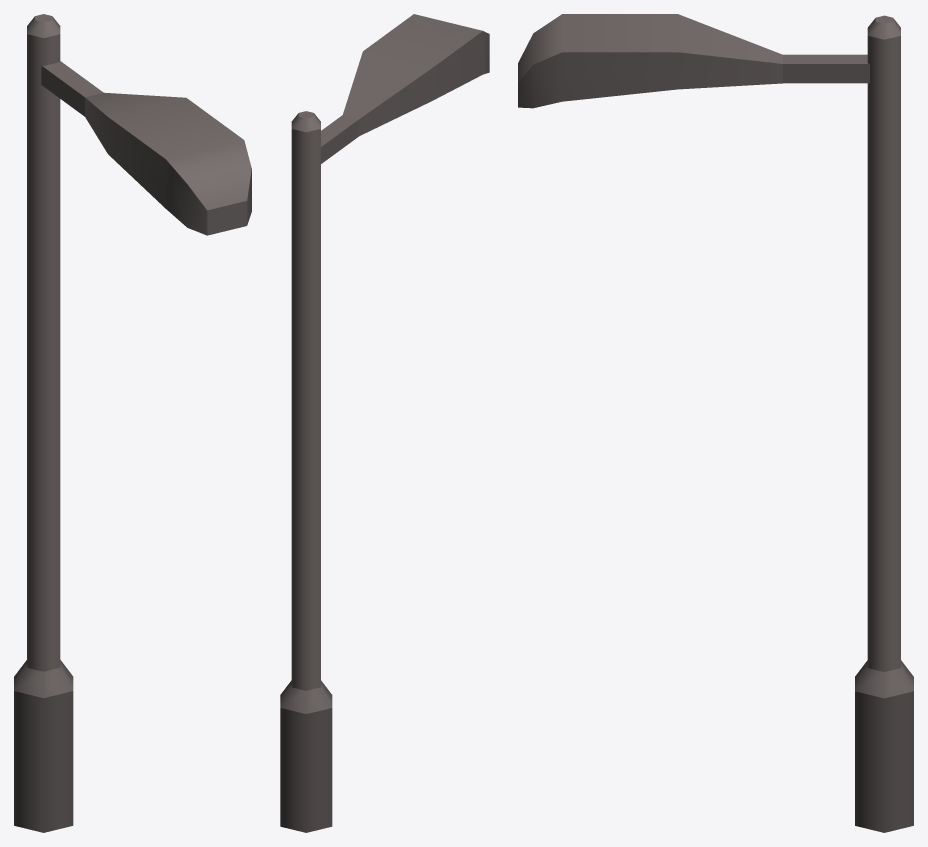
File: Street_Lamp_B.fbx
3 renders of one model, left to right at view 1: azimuth 30°, elevation 25°; view 2: azimuth 150°, elevation 25°; view 3: azimuth 270°, elevation 25°, orthographic. The views are drawn at different scales.
Visible parts, largest first — view 1: Street_Lamp_B; view 2: Street_Lamp_B; view 3: Street_Lamp_B.
Boxes of the visible parts, x1,y1,x2,y2 form: Street_Lamp_B: [14, 14, 251, 832]; Street_Lamp_B: [280, 14, 489, 832]; Street_Lamp_B: [518, 14, 913, 832].
Size of the model in its own units: 55.46 by 540 by 243.
